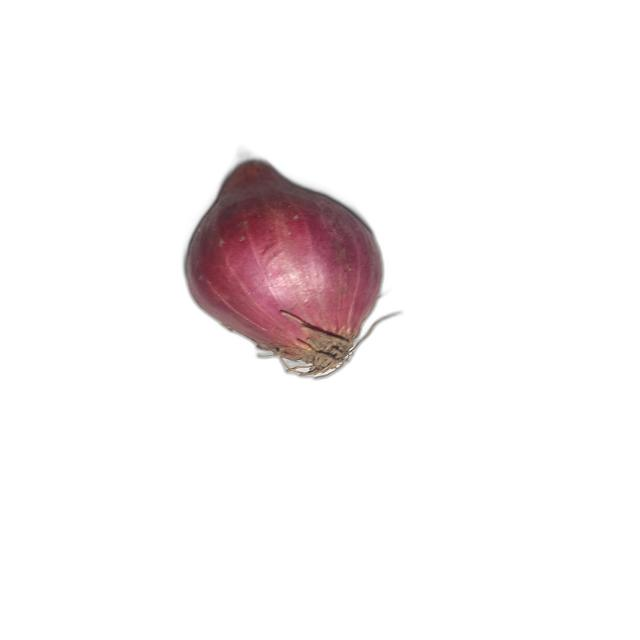onion: (182, 158, 400, 379)
